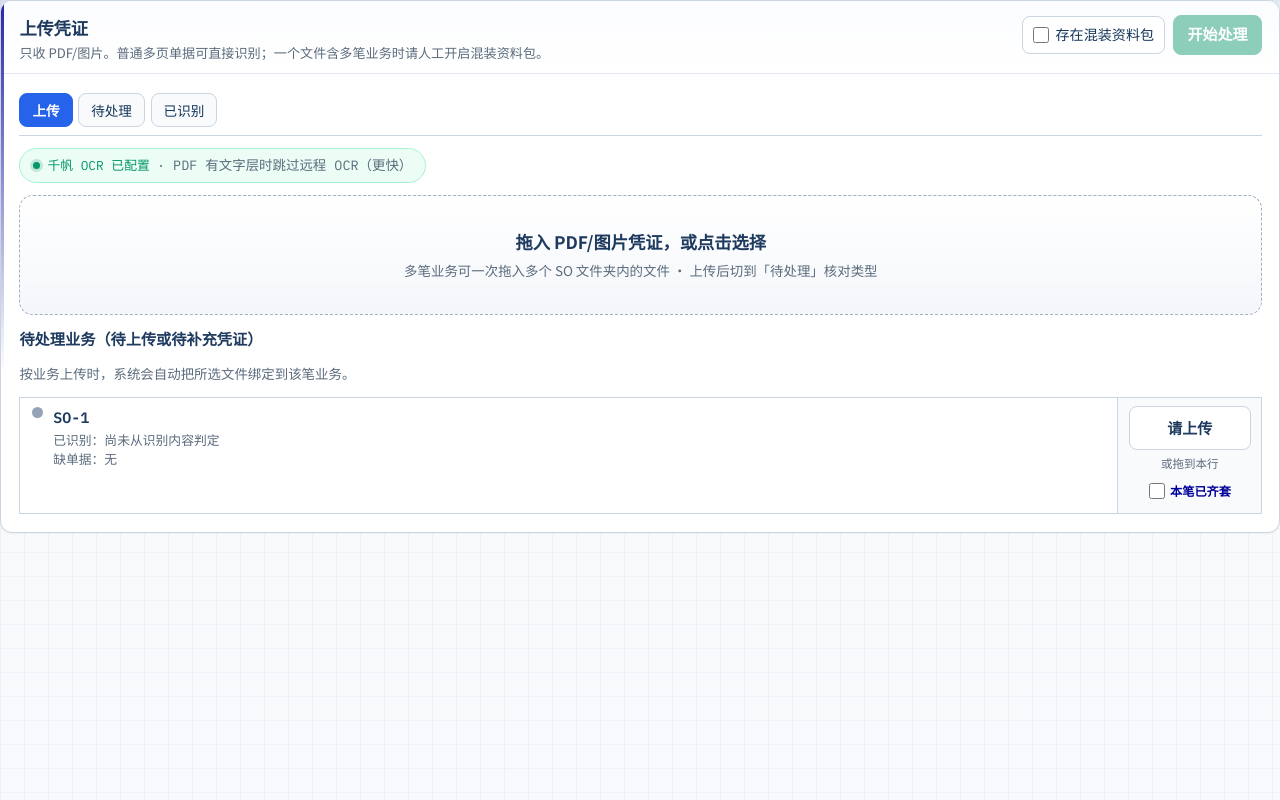
Test: UploadPage V2 › rolls the complete-set decision back when saving fails
The image size is (1280, 800).
Click the checkbox named "本笔已齐套：SO-1".
click(1156, 491)  # box [1148,483,1164,499]
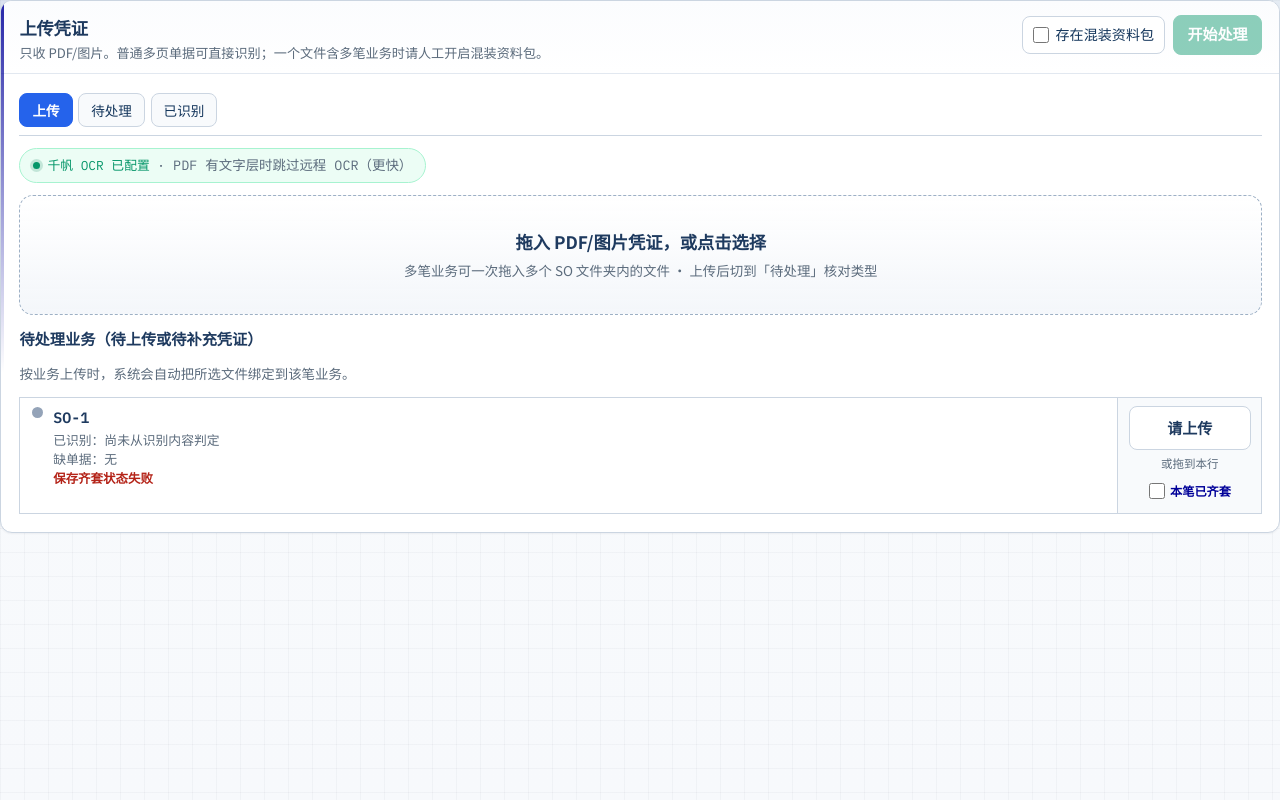
Expected: the message reads "保存齐套状态失败", [53,469,153,487]
